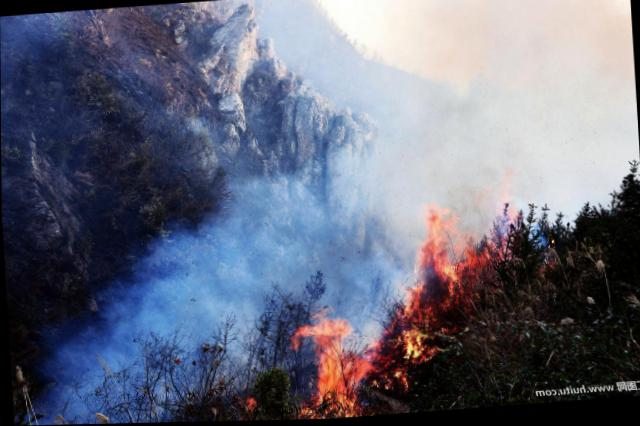fire: (417, 205, 451, 260), (315, 341, 344, 404), (295, 317, 352, 342), (461, 249, 506, 271), (345, 355, 372, 386), (403, 332, 428, 365), (435, 259, 461, 282), (338, 397, 363, 419)
